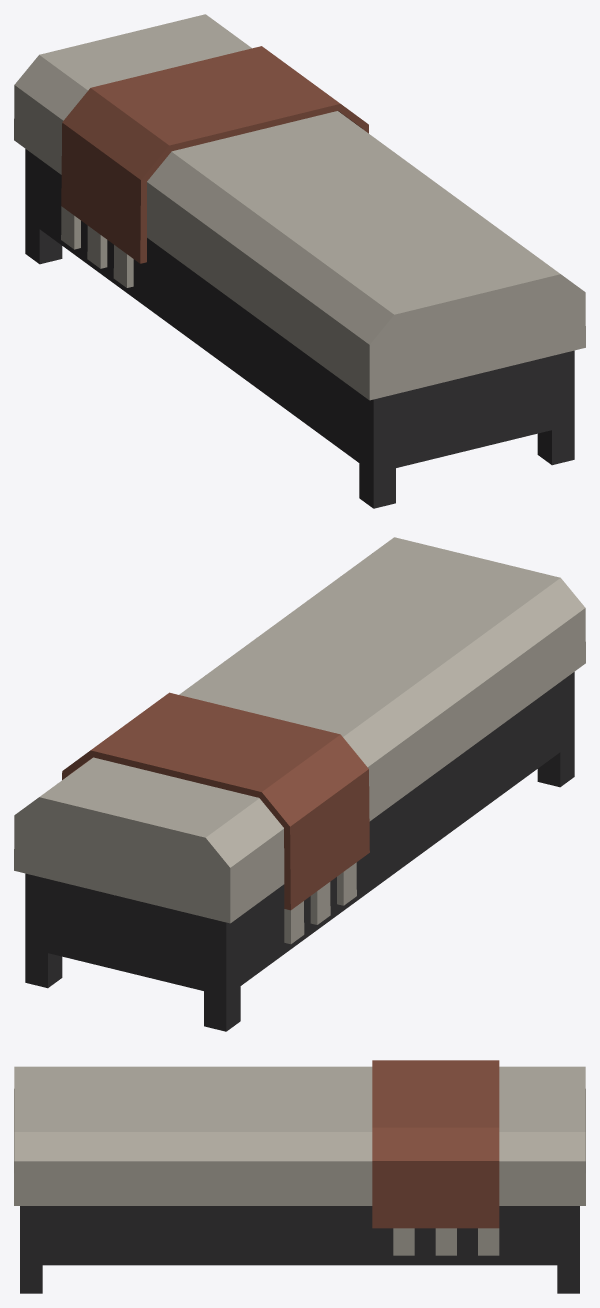
Rendered from SM_Pouf_03.glb.
3 views of the same model, one above another, from view 1: azimuth 30°, elevation 25°; view 2: azimuth 150°, elevation 25°; view 3: azimuth 270°, elevation 25° (orthographic). The views are drawn at different scales.
Visible parts, largest first — view 1: SM_Pouf_03; view 2: SM_Pouf_03; view 3: SM_Pouf_03.
Part boxes in pixels (x1,y1,x2,y2): SM_Pouf_03: (14,14,585,508); SM_Pouf_03: (14,537,585,1031); SM_Pouf_03: (14,1060,585,1293).
Bounding box in the file's own units: 0.572 × 0.4738 × 1.53.
Materials: 1 (1 with a texture image).
